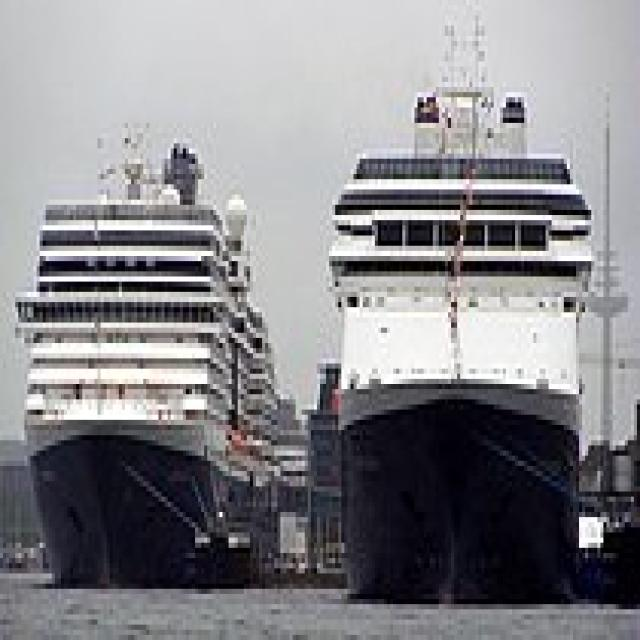Cruise: (323, 10, 594, 604), (9, 102, 284, 589)
